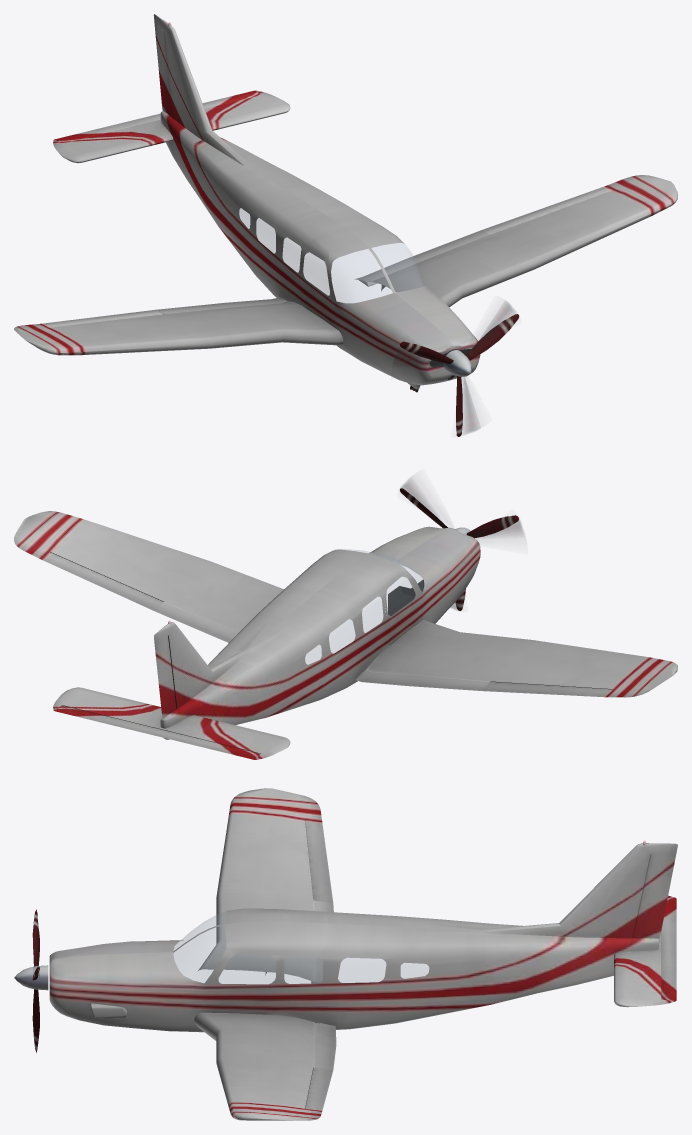
3 views of the same model, one above another, from view 1: azimuth 30°, elevation 25°; view 2: azimuth 150°, elevation 25°; view 3: azimuth 270°, elevation 25° (orthographic). The views are drawn at different scales.
Parts seen in each view (by area): view 1: voletG, vitres, propdisc; view 2: voletG, vitres, propdisc; view 3: voletG, vitres.
Boxes of the visible parts, bbox=[...] form: voletG: bbox=[14, 14, 677, 436]; vitres: bbox=[239, 208, 423, 302]; propdisc: bbox=[393, 301, 515, 434]; voletG: bbox=[14, 488, 677, 759]; vitres: bbox=[305, 549, 423, 664]; propdisc: bbox=[401, 478, 524, 610]; voletG: bbox=[14, 788, 677, 1120]; vitres: bbox=[173, 912, 428, 983].
Bounding box in the file's own units: 9.88 × 2.97 × 8.37.
Materials: 4 (2 with a texture image).
